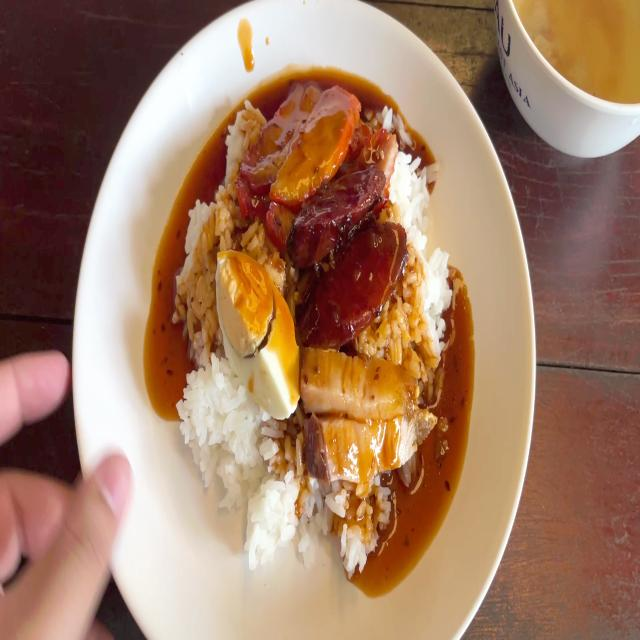boiled_egg: (224, 253, 302, 420)
chainese_sausage: (307, 164, 394, 344)
crispy_pork: (308, 356, 440, 466)
red_pork: (243, 88, 357, 223)
red_pork_and_crispy_pork: (172, 82, 454, 567)
rice: (174, 360, 264, 490), (181, 177, 223, 366), (240, 440, 309, 552), (412, 250, 458, 356), (396, 149, 422, 224), (222, 100, 250, 166)
